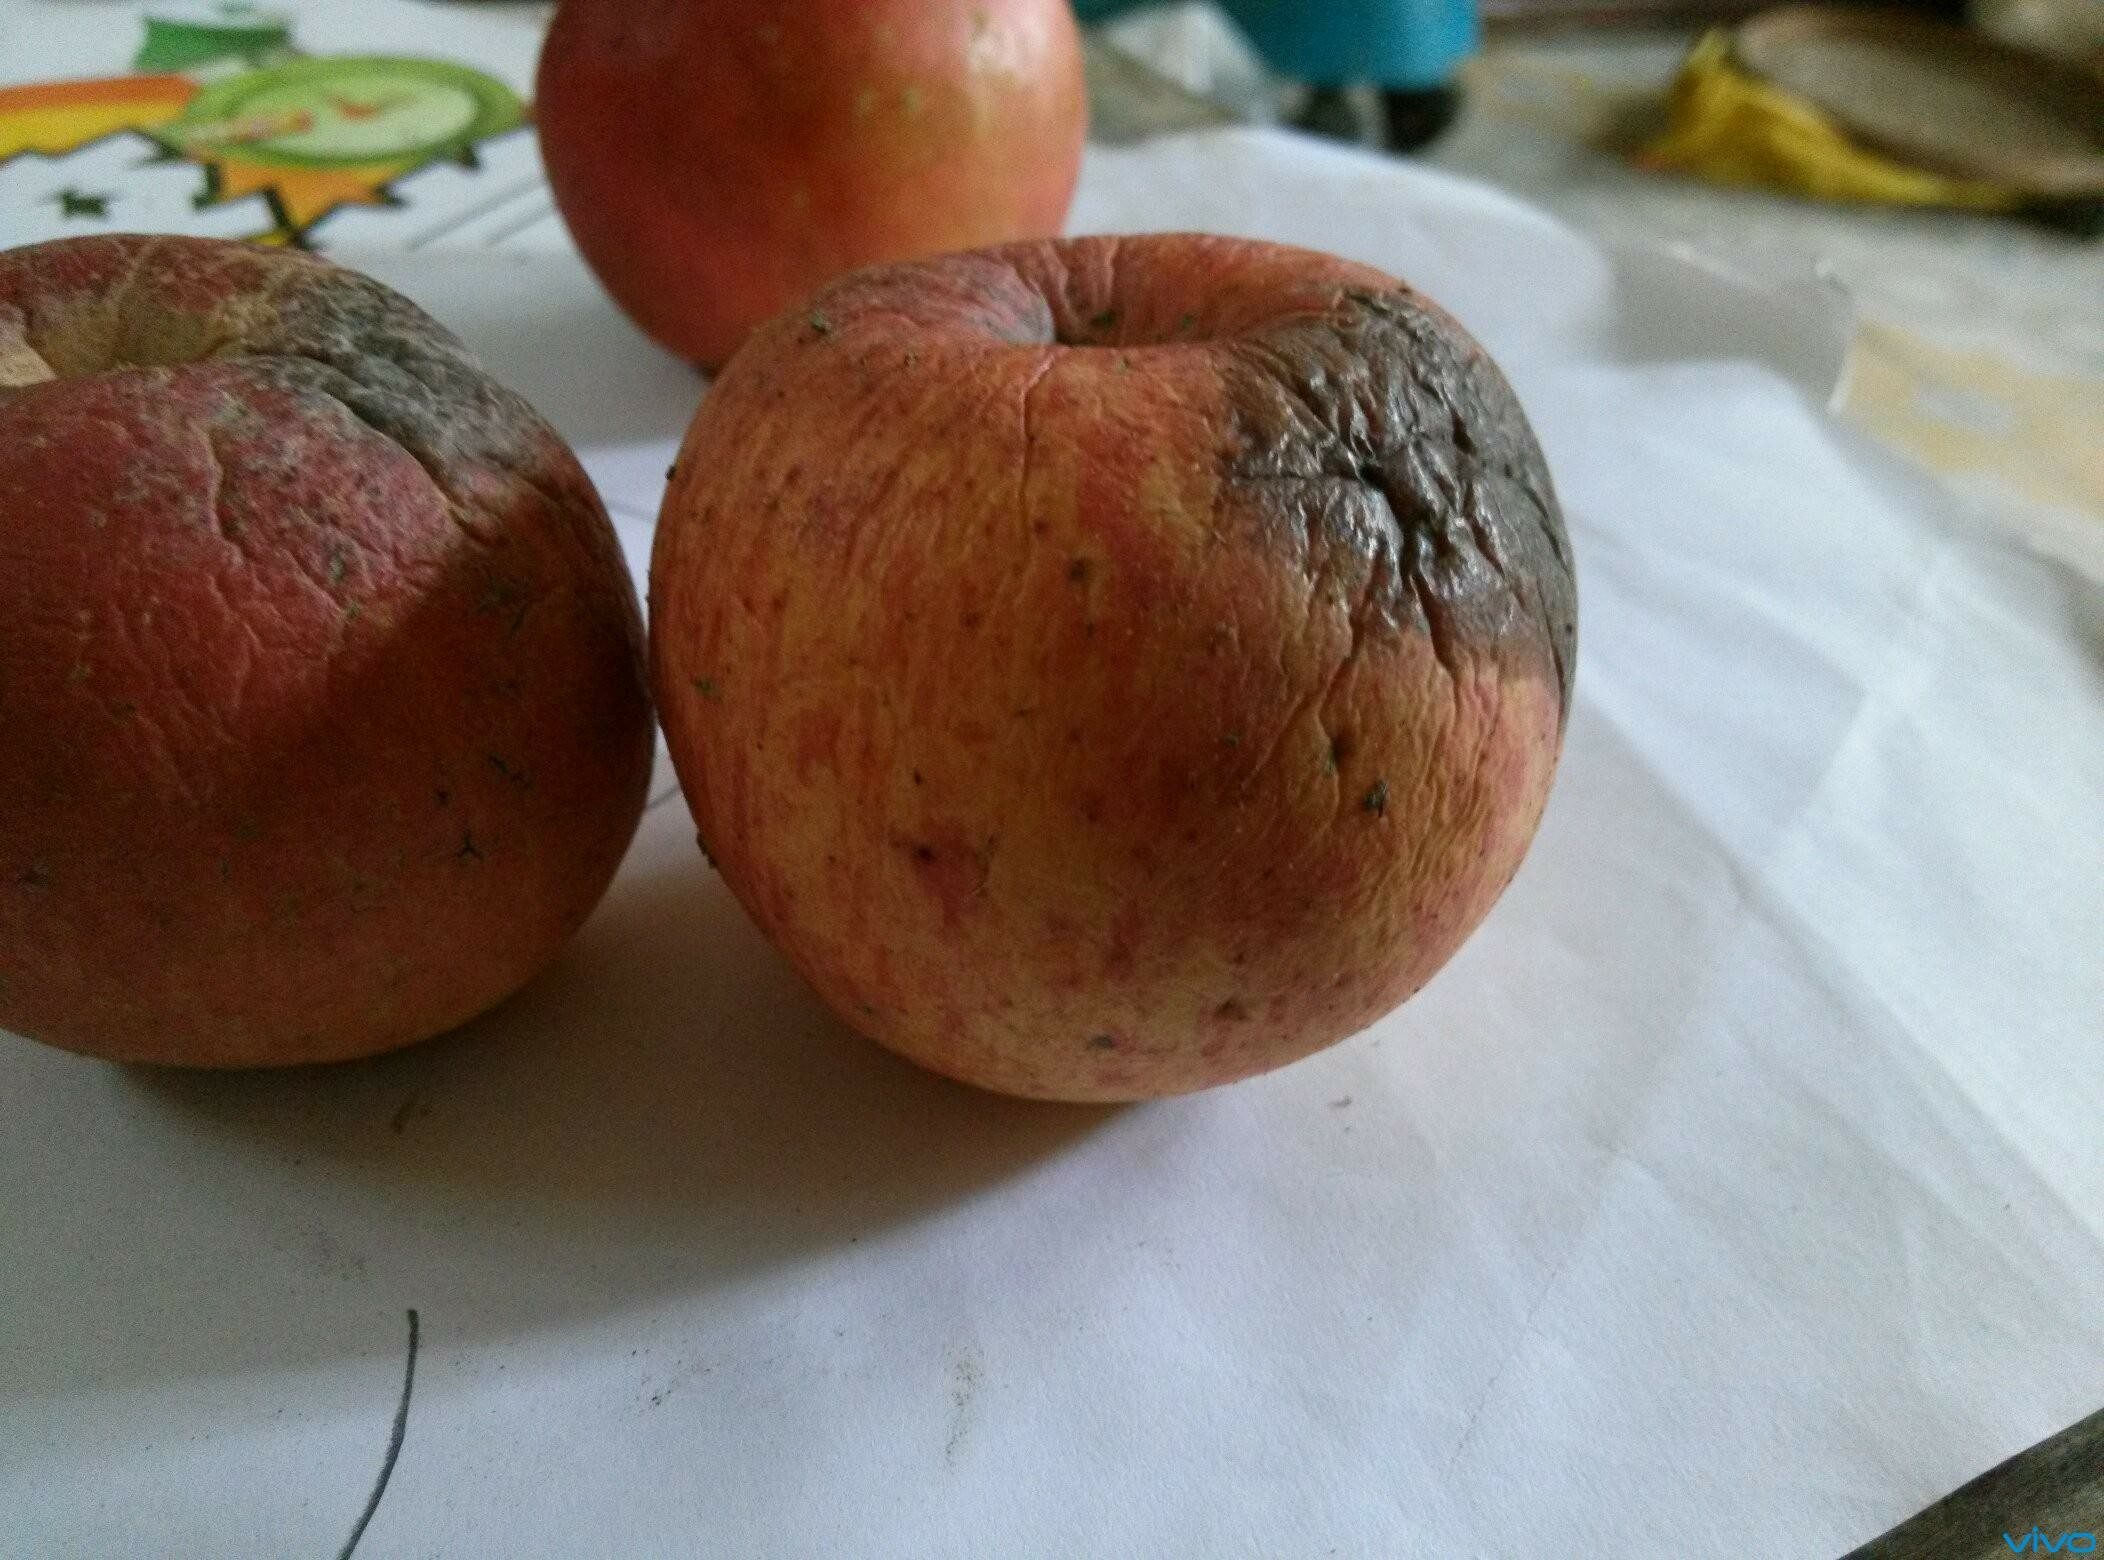rotten_apple: (664, 243, 1580, 1113), (5, 234, 665, 1063)
